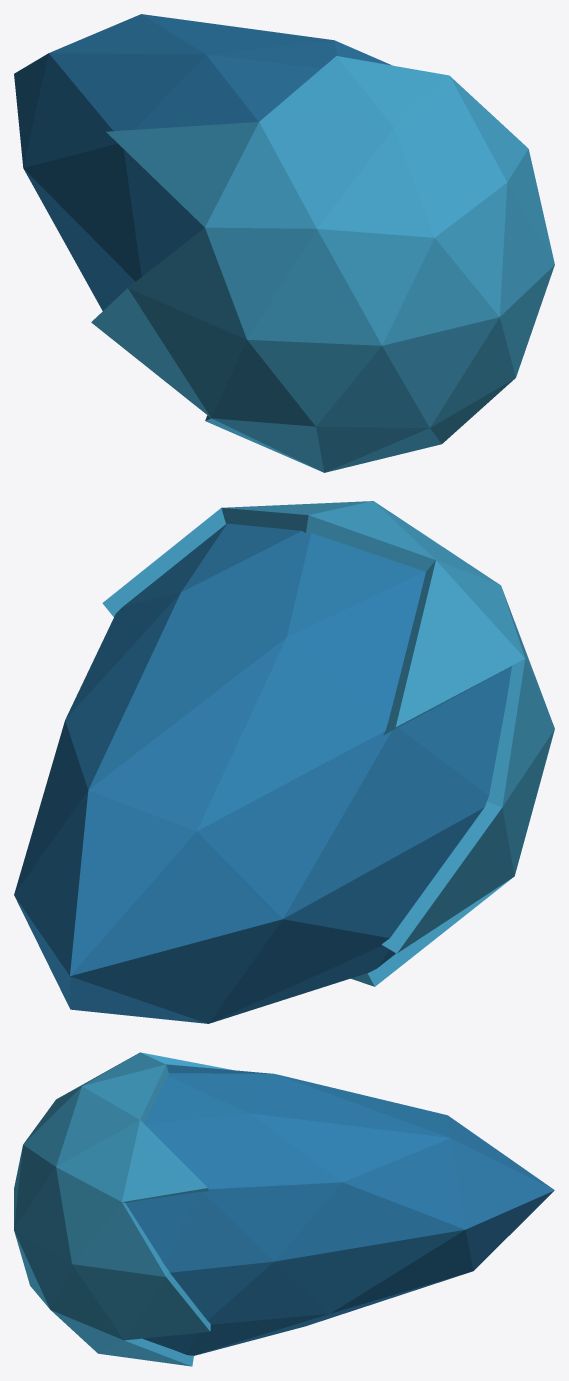
File: magebolt.glb
3 views of the same model, one above another, from view 1: azimuth 30°, elevation 25°; view 2: azimuth 150°, elevation 25°; view 3: azimuth 270°, elevation 25° (orthographic). The views are drawn at different scales.
Visible parts, largest first — view 1: Icosphere; view 2: Icosphere; view 3: Icosphere.
Boxes of the visible parts, x1,y1,x2,y2 form: Icosphere: [14, 14, 554, 472]; Icosphere: [14, 501, 554, 1023]; Icosphere: [14, 1052, 554, 1366].
Bounding box in the file's own units: 0.9814 × 0.9814 × 1.66.
